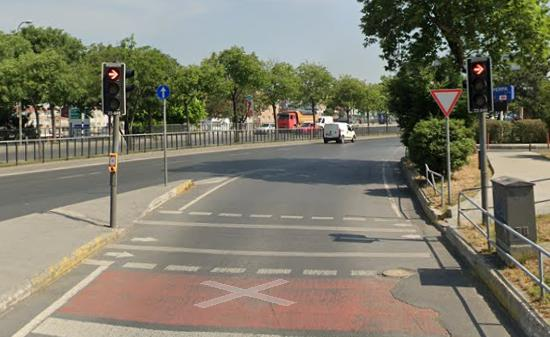forward: (158, 84, 169, 101)
redlight: (468, 59, 492, 112), (103, 66, 125, 111)
